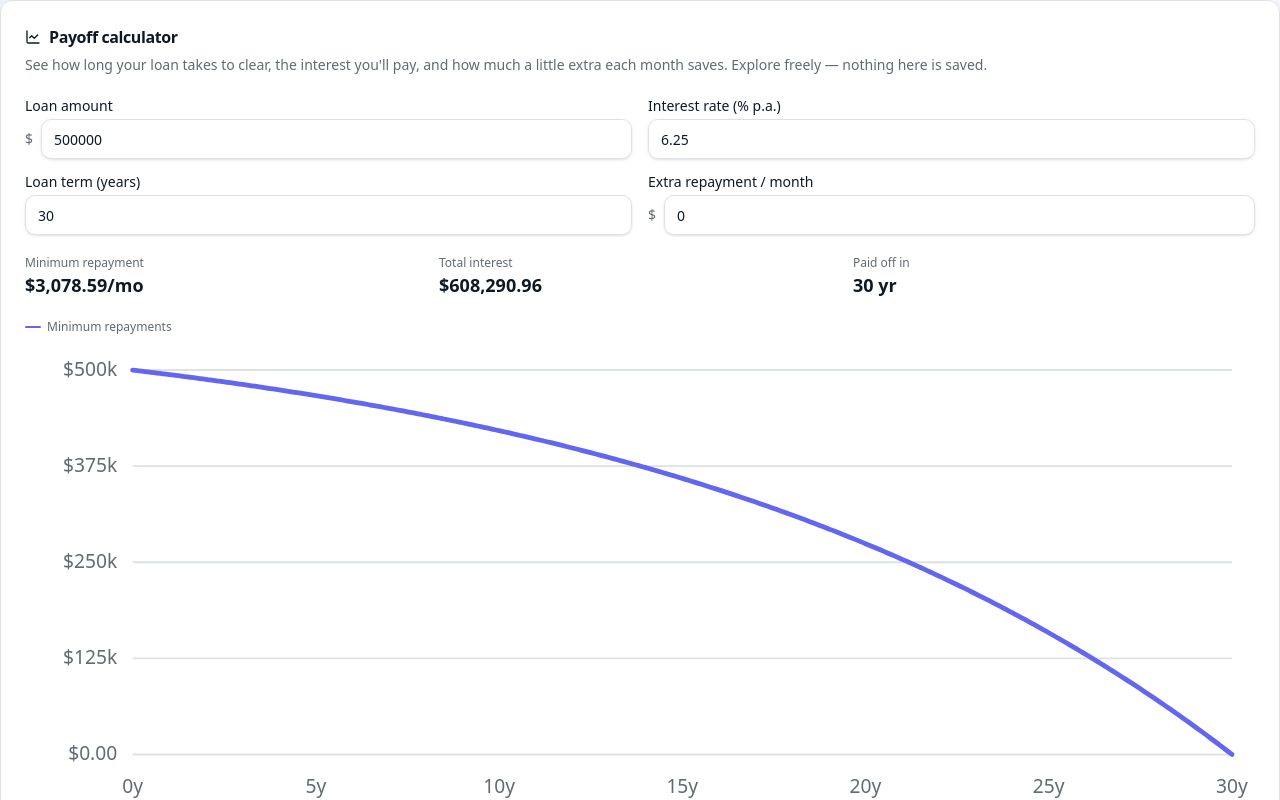
Test: LoanCalculator › shows interest and time saved once an extra repayment is entered
This screenshot has width=1280, height=800.
Replace the text in the number field labelled "Extra repayment / month" with "500" at (960, 215), box [664,195,1255,235]
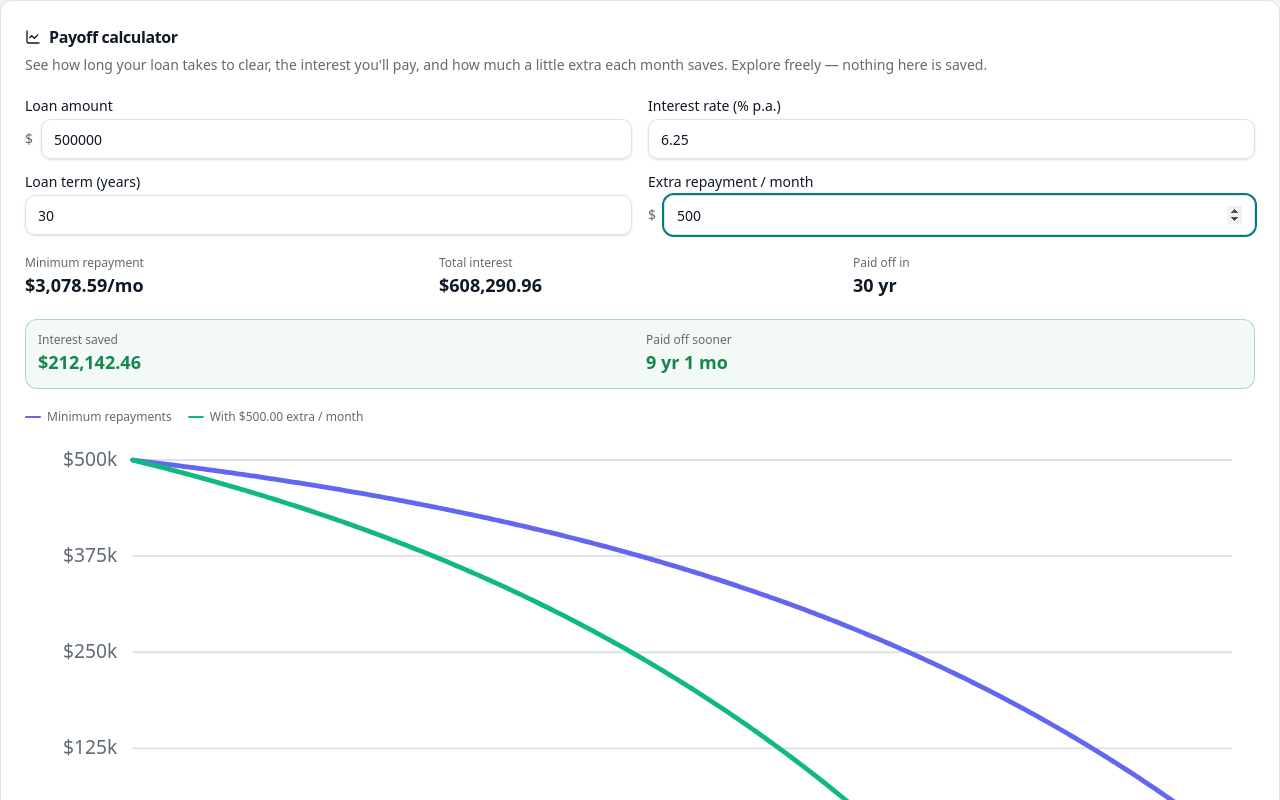
expect the element with test id "extra-savings" is shown: met, box [25,319,1255,389]
expect the text "Interest saved" is shown: met, box [38,331,118,348]
expect the text "Paid off sooner" is shown: met, box [646,331,732,348]
